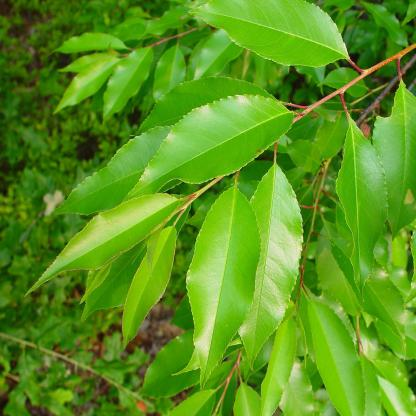cherry leaf: (121, 91, 311, 208), (26, 188, 195, 304), (183, 185, 259, 400), (332, 112, 392, 319), (118, 214, 177, 361)
